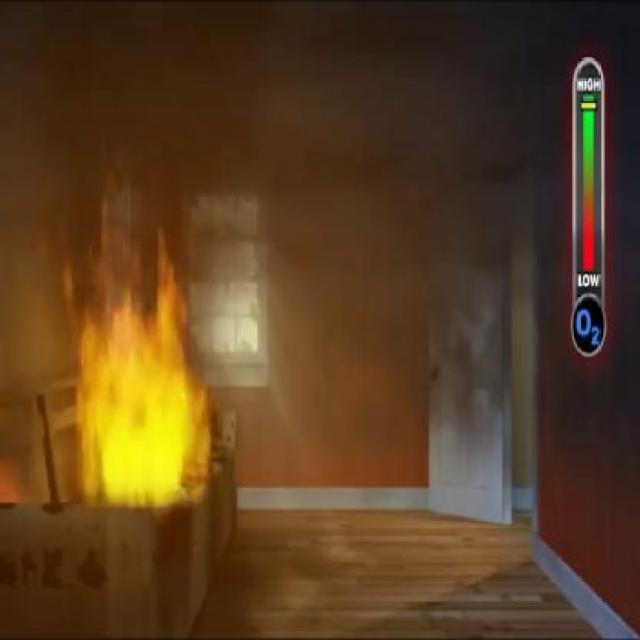fire: (81, 292, 210, 516)
smoke: (1, 48, 397, 270)
